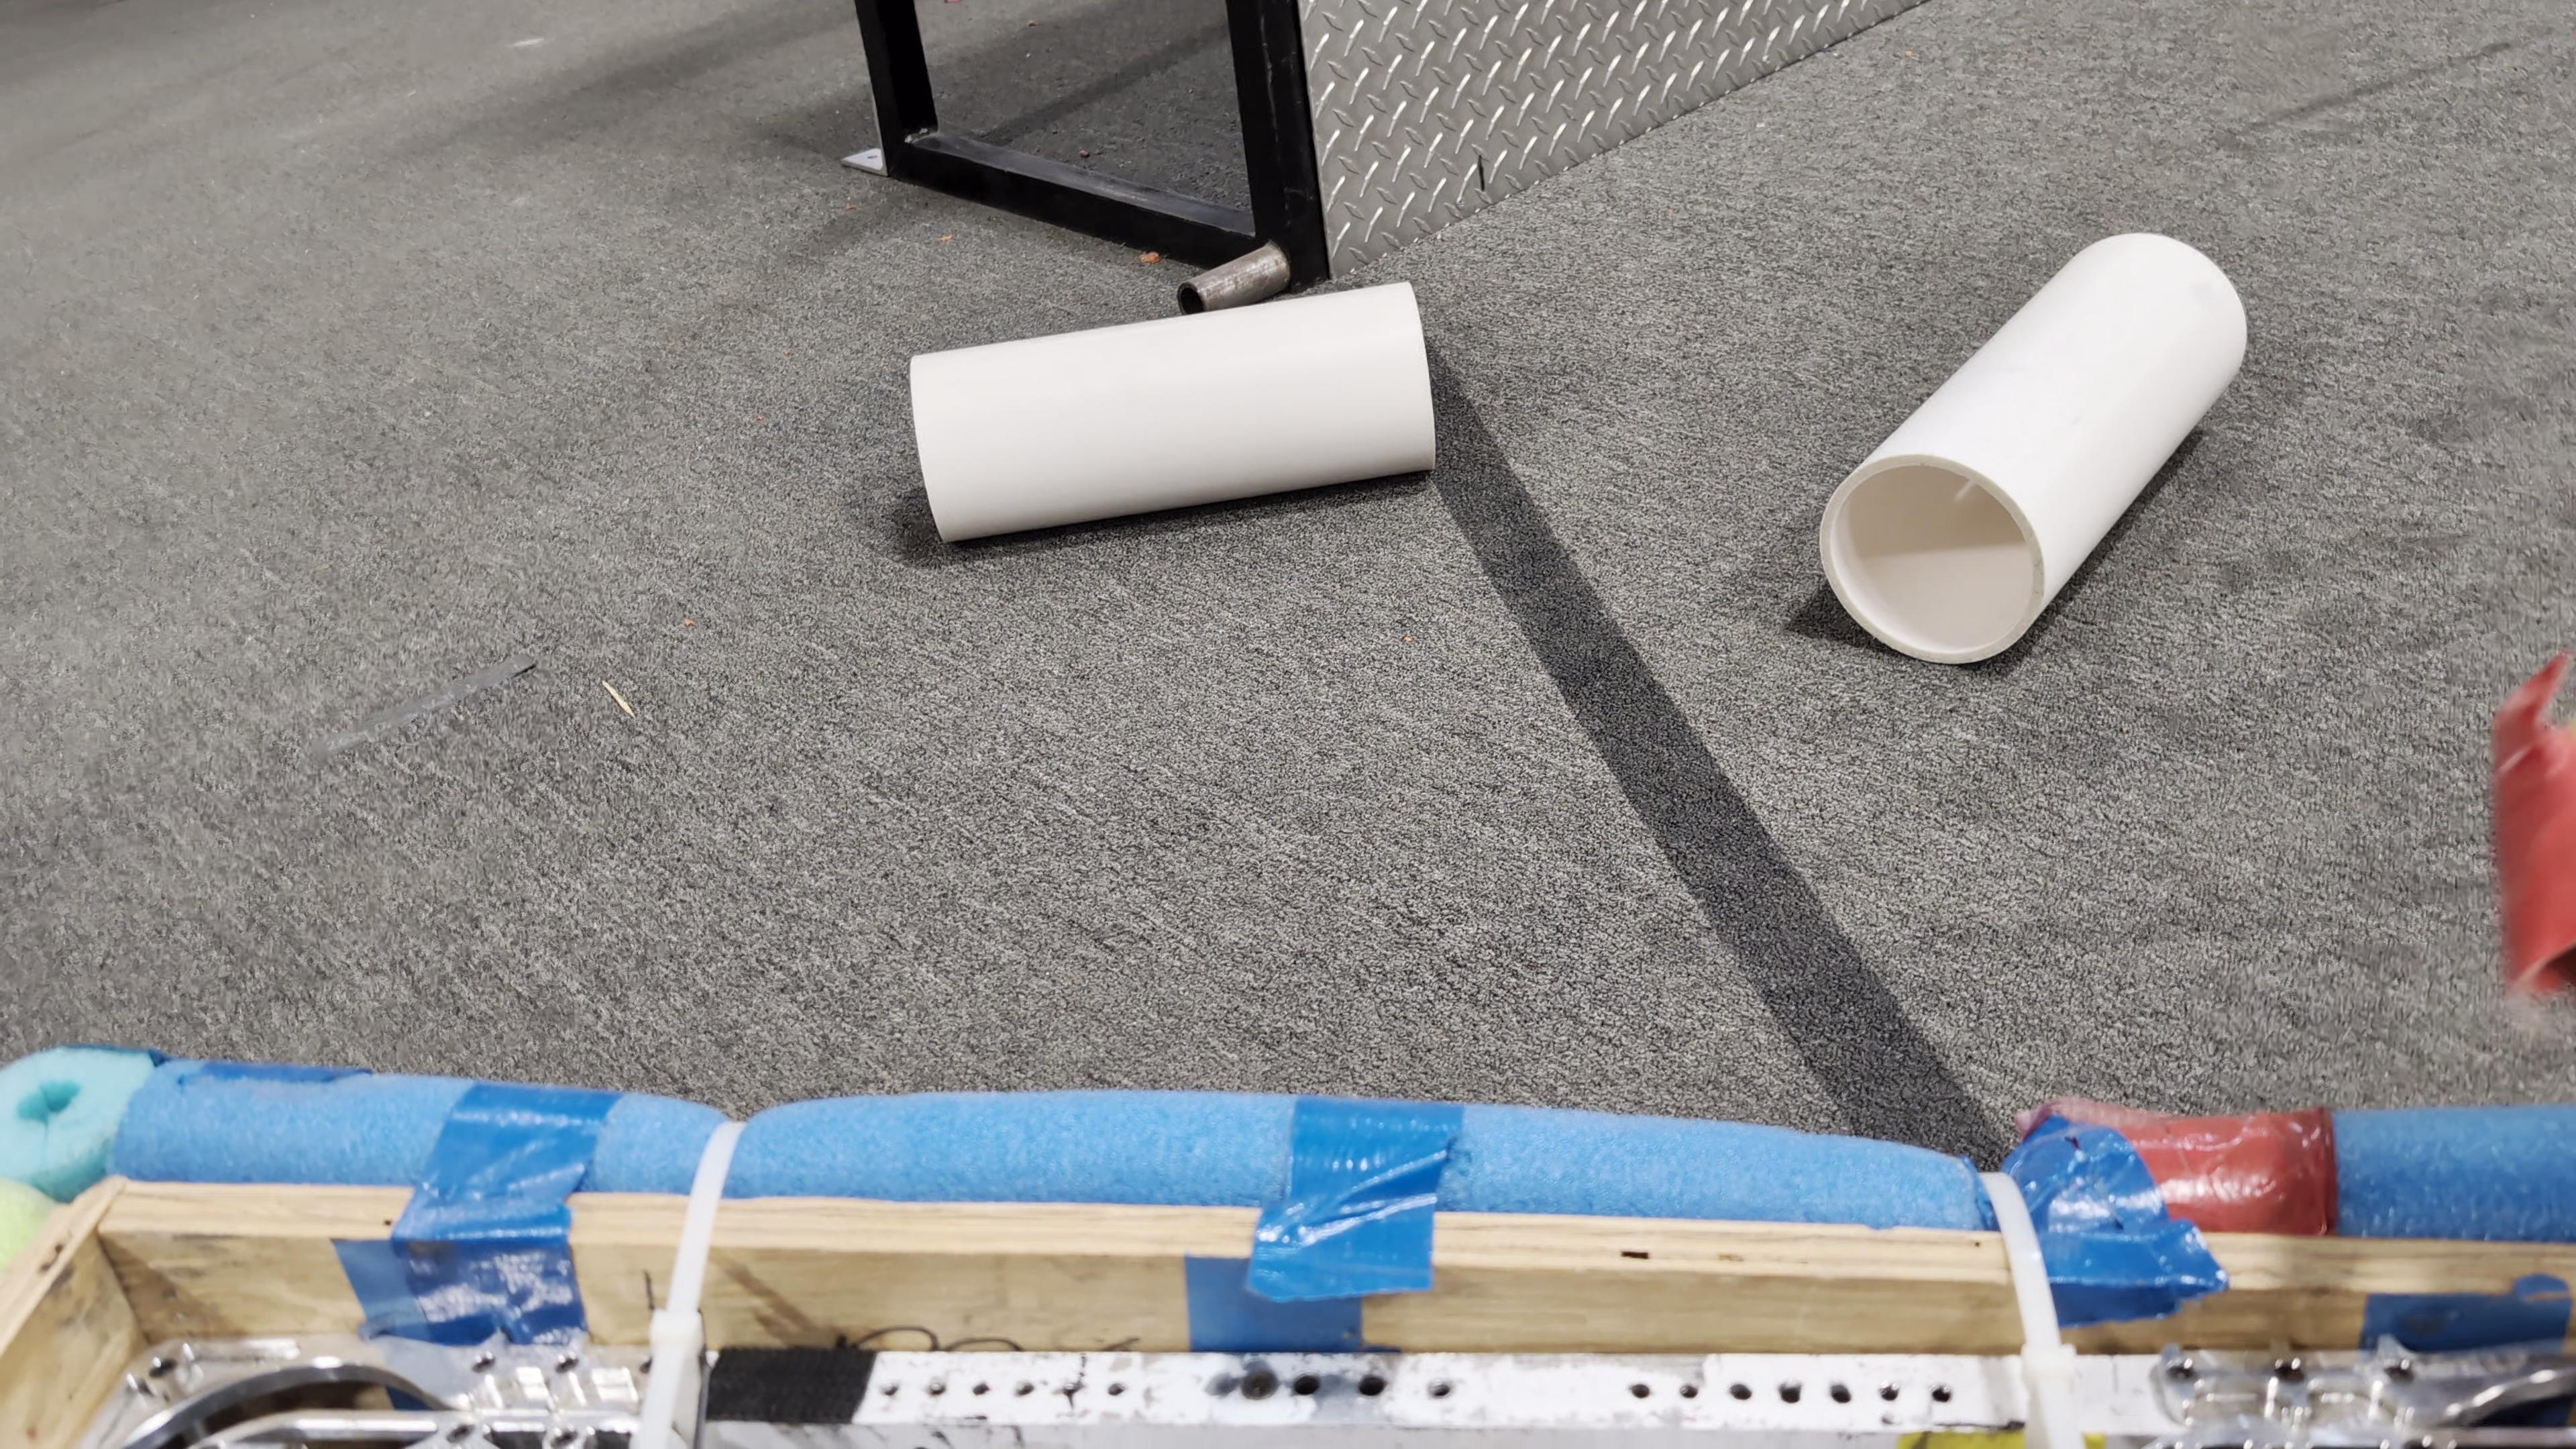coral: (1819, 232, 2249, 663), (911, 283, 1435, 541)
